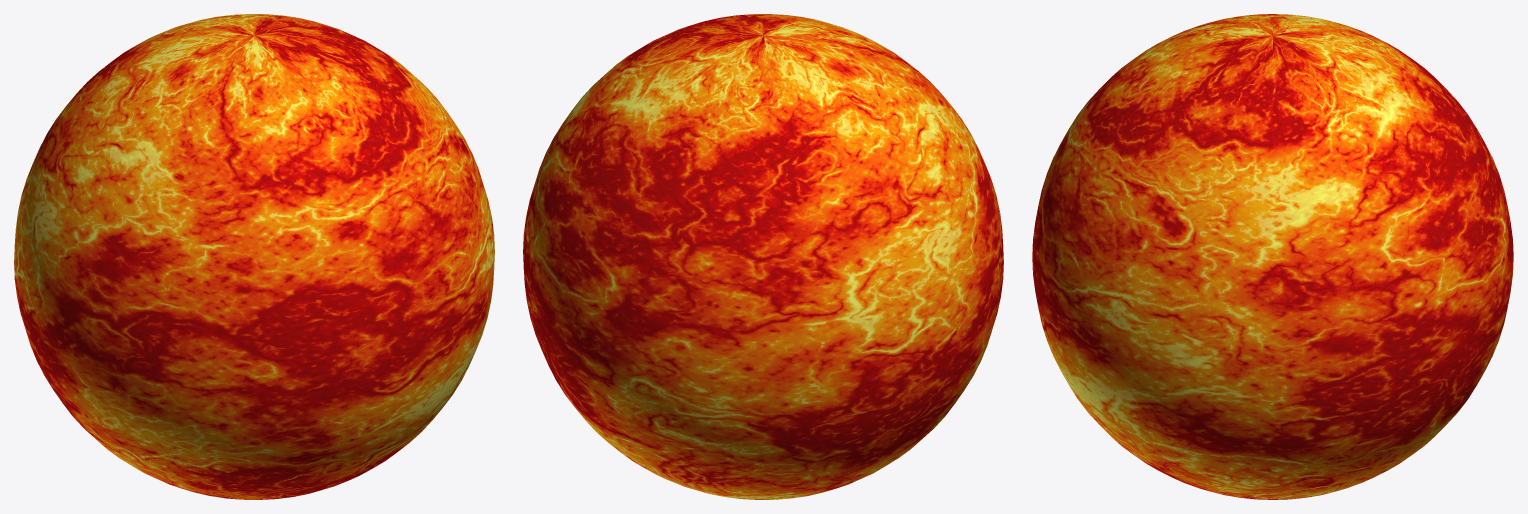
The model's file is Sun.dae.
3 renders of one model, left to right at view 1: azimuth 30°, elevation 25°; view 2: azimuth 150°, elevation 25°; view 3: azimuth 270°, elevation 25°, orthographic.
Visible parts, largest first — view 1: pSphere2; view 2: pSphere2; view 3: pSphere2.
Boxes of the visible parts, x1,y1,x2,y2 form: pSphere2: (14,14,494,499); pSphere2: (523,14,1003,499); pSphere2: (1032,14,1513,499).
Bounding box in the file's own units: 16826 × 17069 × 16826.
1 material, 1 textured.
